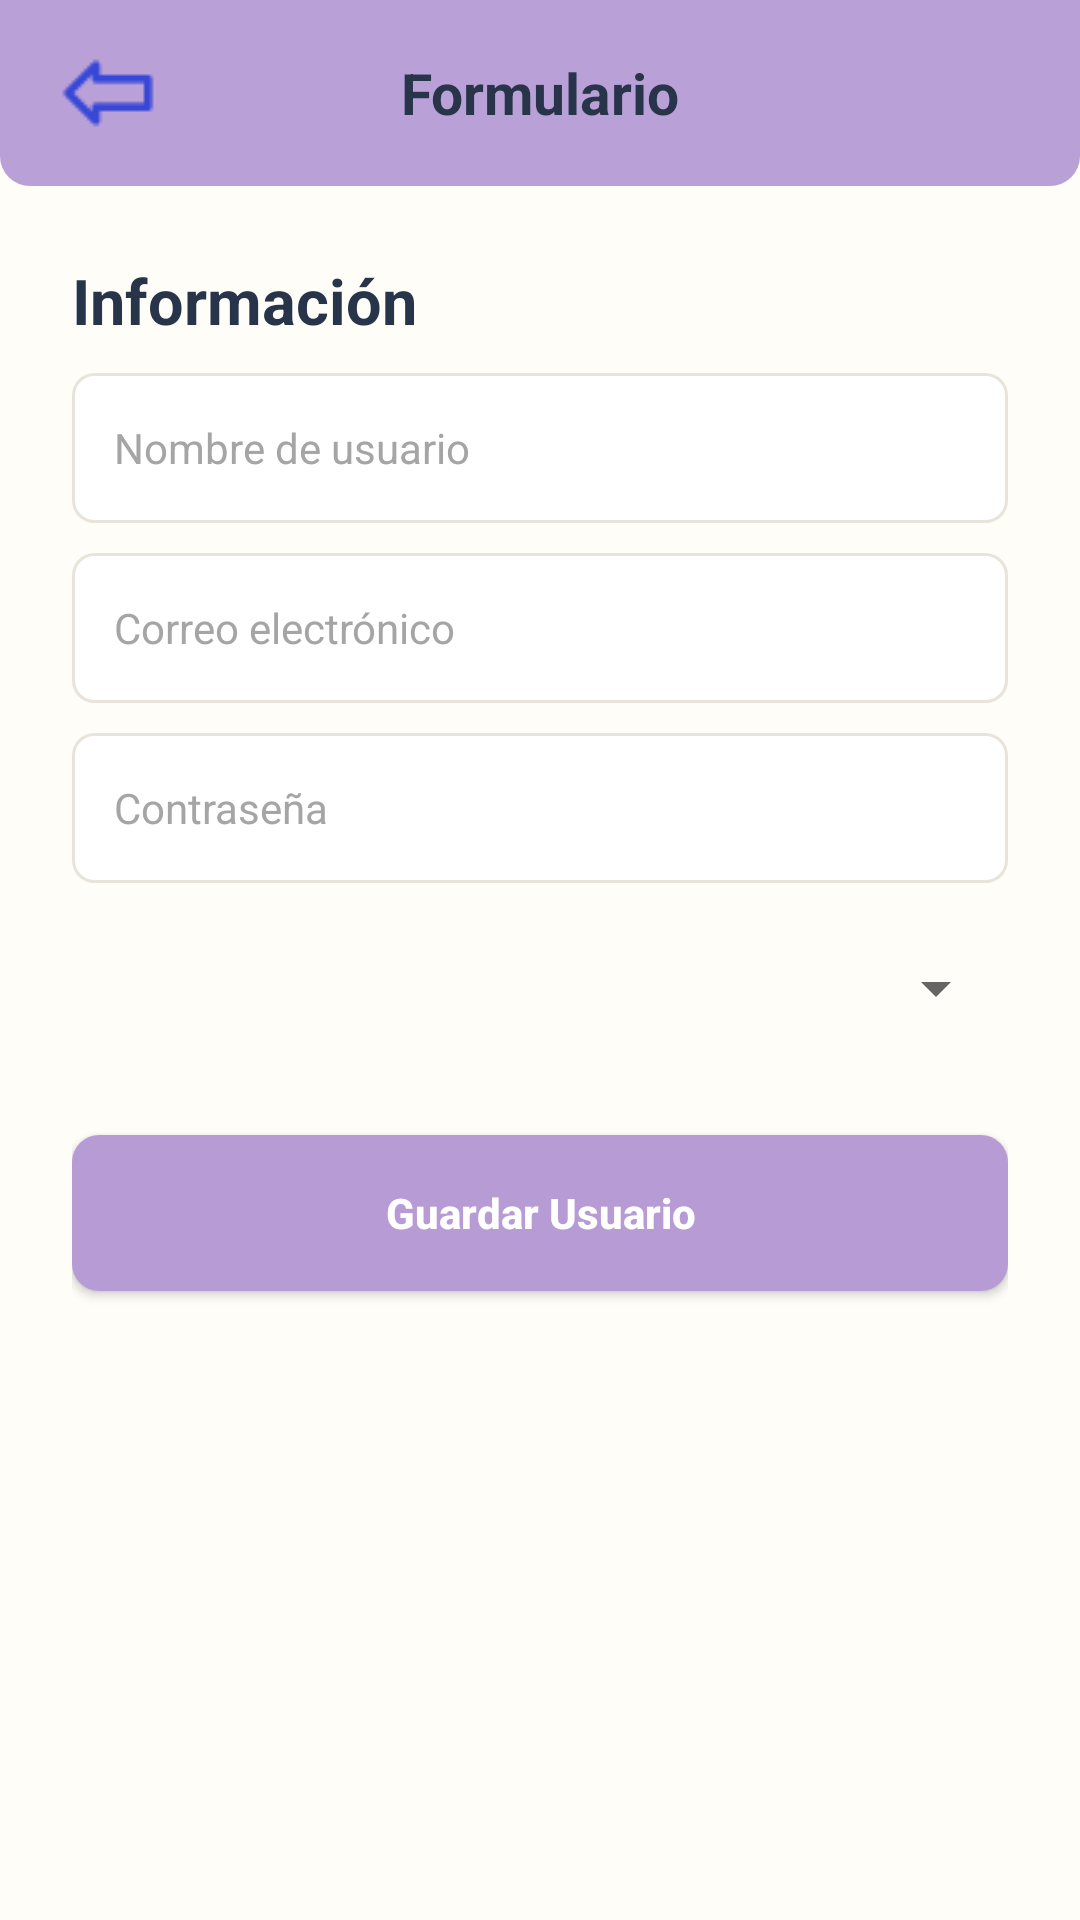

Screen size 1080 × 1920. Icon name, then its center in pixels as (x=x, y=y):
Volver: (x=108, y=93)
